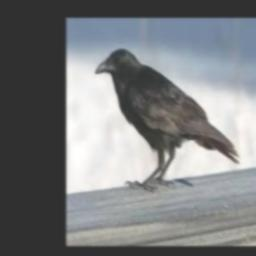Crow: (95, 48, 242, 192)
